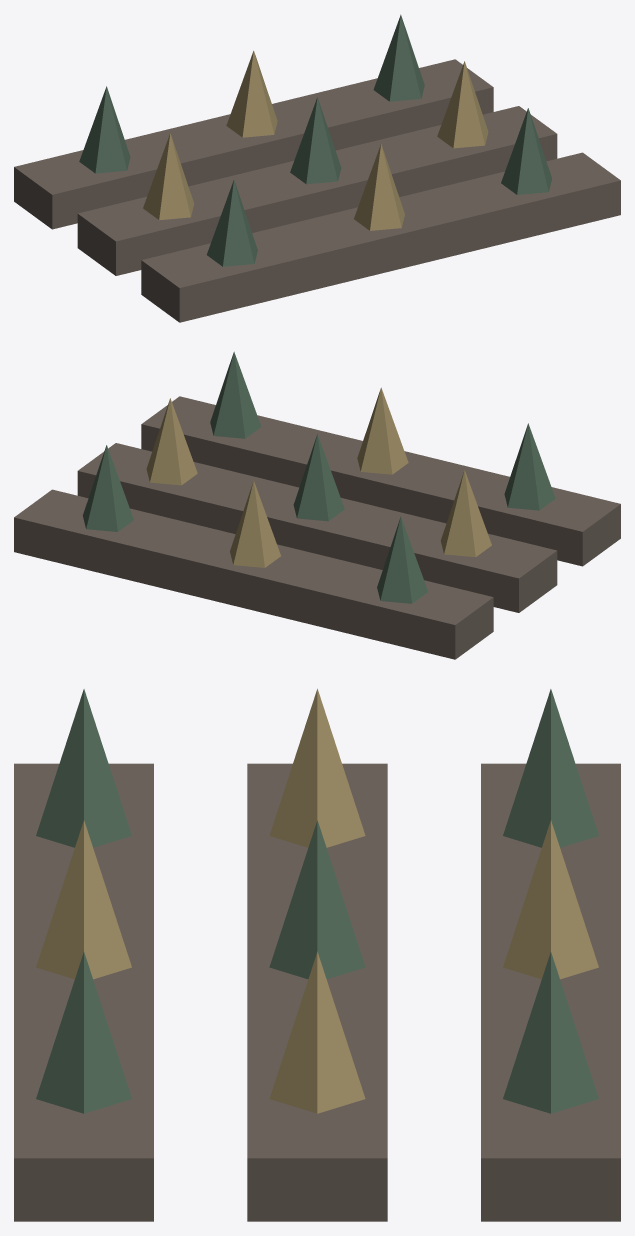
Rendered from crop_row.glb.
The picture shows the model from 3 angles, top to bottom: view 1: azimuth 30°, elevation 25°; view 2: azimuth 150°, elevation 25°; view 3: azimuth 270°, elevation 25°; orthographic projection. The views are drawn at different scales.
Visible parts, largest first — view 1: crop_row; view 2: crop_row; view 3: crop_row.
Part boxes in pixels (box(x1,y1,x2,y2)): crop_row: box(14, 14, 620, 322); crop_row: box(14, 351, 620, 659); crop_row: box(14, 688, 620, 1221).
Bounding box in the file's own units: 2.4 × 0.58 × 1.56.
